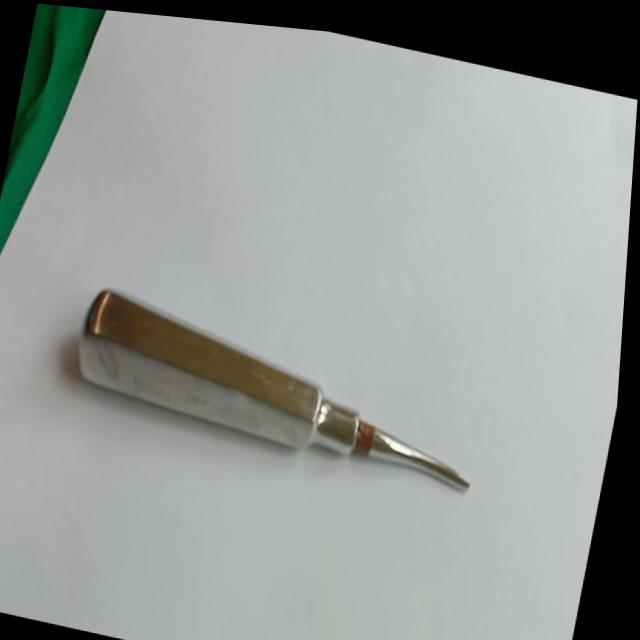Coupland1: (58, 261, 513, 499)
